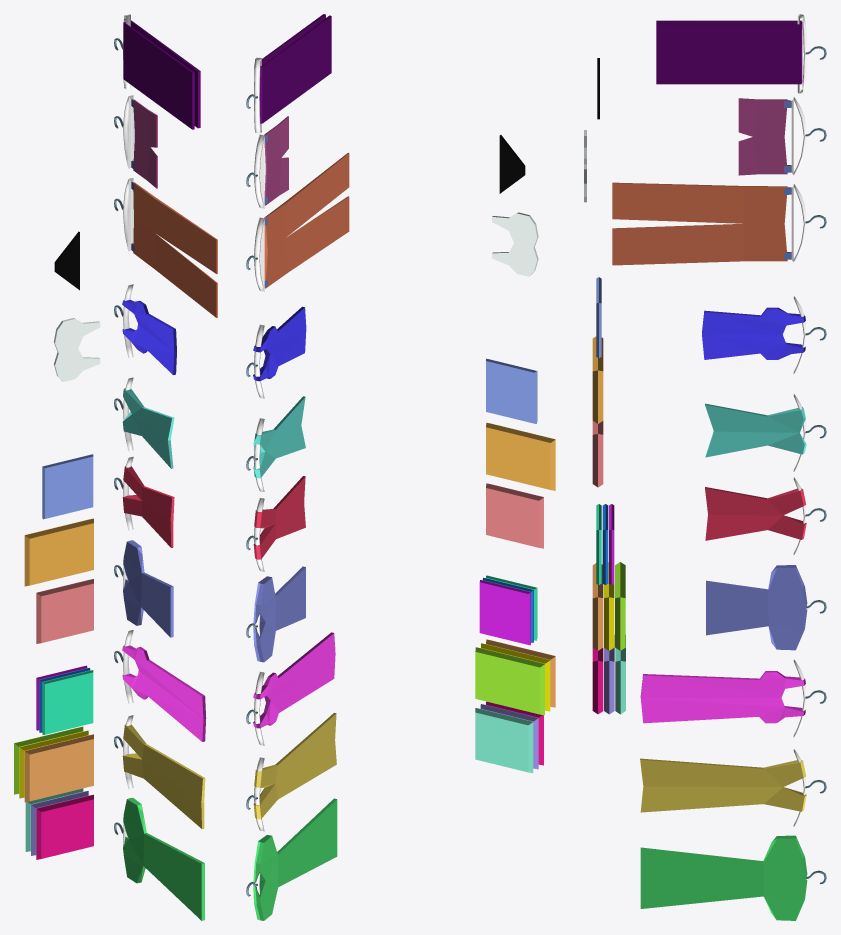
Rendered from women_cloths_low_poly.fbx.
The picture shows the model from 3 angles, left to right: view 1: azimuth 30°, elevation 25°; view 2: azimuth 150°, elevation 25°; view 3: azimuth 270°, elevation 25°; orthographic projection. The views are drawn at different scales.
Visible parts, largest first — view 1: imagetostl_mesh22, imagetostl_mesh4, imagetostl_mesh13, imagetostl_mesh27, imagetostl_mesh37, imagetostl_mesh16, imagetostl_mesh35, imagetostl_mesh36, imagetostl_mesh28, imagetostl_mesh12, imagetostl_mesh26, imagetostl_mesh38 (+12 smaller); view 2: imagetostl_mesh22, imagetostl_mesh13, imagetostl_mesh4, imagetostl_mesh42, imagetostl_mesh27, imagetostl_mesh16, imagetostl_mesh35, imagetostl_mesh40, imagetostl_mesh28, imagetostl_mesh12, imagetostl_mesh44, imagetostl_mesh26 (+10 smaller); view 3: imagetostl_mesh22, imagetostl_mesh4, imagetostl_mesh13, imagetostl_mesh16, imagetostl_mesh35, imagetostl_mesh12, imagetostl_mesh30, imagetostl_mesh11, imagetostl_mesh19, imagetostl_mesh10, imagetostl_mesh42, imagetostl_mesh27 (+9 smaller).
Boxes of the visible parts, <box> form: imagetostl_mesh22: <box>133,182,217,317</box>; imagetostl_mesh4: <box>123,20,200,129</box>; imagetostl_mesh13: <box>123,797,204,920</box>; imagetostl_mesh27: <box>24,518,93,586</box>; imagetostl_mesh37: <box>24,734,93,802</box>; imagetostl_mesh16: <box>122,724,205,829</box>; imagetostl_mesh35: <box>122,645,206,741</box>; imagetostl_mesh36: <box>36,794,93,859</box>; imagetostl_mesh28: <box>36,579,93,643</box>; imagetostl_mesh12: <box>123,540,173,637</box>; imagetostl_mesh26: <box>42,454,93,519</box>; imagetostl_mesh38: <box>42,670,93,734</box>; imagetostl_mesh22: <box>264,153,349,288</box>; imagetostl_mesh13: <box>253,798,337,920</box>; imagetostl_mesh4: <box>254,14,331,123</box>; imagetostl_mesh42: <box>475,647,544,715</box>; imagetostl_mesh27: <box>486,422,555,490</box>; imagetostl_mesh16: <box>253,713,336,819</box>; imagetostl_mesh35: <box>253,632,335,728</box>; imagetostl_mesh40: <box>475,708,533,773</box>; imagetostl_mesh28: <box>486,483,543,548</box>; imagetostl_mesh12: <box>253,566,305,662</box>; imagetostl_mesh44: <box>479,580,530,645</box>; imagetostl_mesh26: <box>486,358,537,423</box>; imagetostl_mesh22: <box>612,182,787,265</box>; imagetostl_mesh4: <box>656,20,802,84</box>; imagetostl_mesh13: <box>640,835,807,920</box>; imagetostl_mesh16: <box>640,758,806,812</box>; imagetostl_mesh35: <box>640,671,805,723</box>; imagetostl_mesh12: <box>706,565,807,650</box>; imagetostl_mesh30: <box>702,307,805,359</box>; imagetostl_mesh11: <box>705,487,806,540</box>; imagetostl_mesh19: <box>705,403,806,457</box>; imagetostl_mesh10: <box>738,98,787,175</box>; imagetostl_mesh42: <box>615,562,625,650</box>; imagetostl_mesh27: <box>592,336,603,423</box>.
Bounding box in the file's own units: 530 × 2139 × 521.
